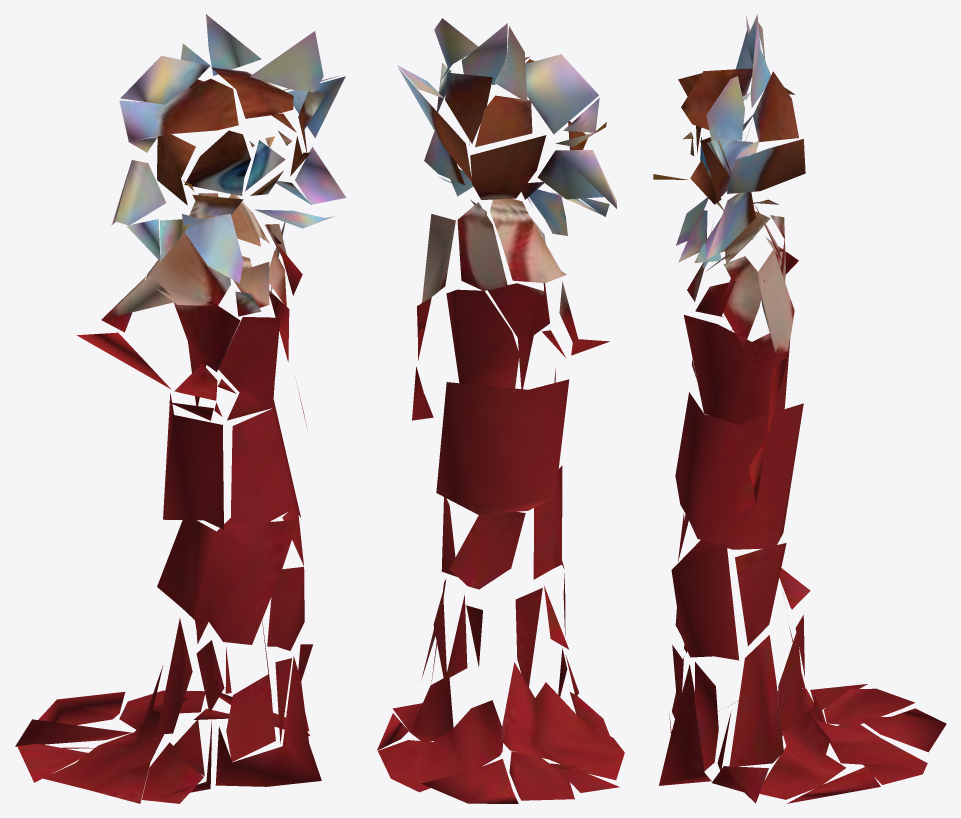
File: crowd_actress_lite.glb
3 views of the same model, side by side, from view 1: azimuth 30°, elevation 25°; view 2: azimuth 150°, elevation 25°; view 3: azimuth 270°, elevation 25° (orthographic). The views are drawn at different scales.
Parts seen in each view (by area): view 1: tripo_node_058a3aab-caec-415b-b0f7-e44096bb8c06; view 2: tripo_node_058a3aab-caec-415b-b0f7-e44096bb8c06; view 3: tripo_node_058a3aab-caec-415b-b0f7-e44096bb8c06.
Boxes of the visible parts, x1=… form: tripo_node_058a3aab-caec-415b-b0f7-e44096bb8c06: x1=15, y1=14, x2=346, y2=803; tripo_node_058a3aab-caec-415b-b0f7-e44096bb8c06: x1=377, y1=18, x2=624, y2=803; tripo_node_058a3aab-caec-415b-b0f7-e44096bb8c06: x1=653, y1=14, x2=946, y2=803.
Size of the model in its own units: 0.7073 by 1.86 by 0.6629.
Materials: 1 (1 with a texture image).
